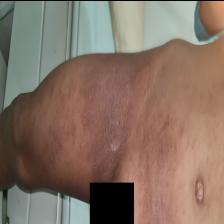DA: (49, 47, 144, 180)
